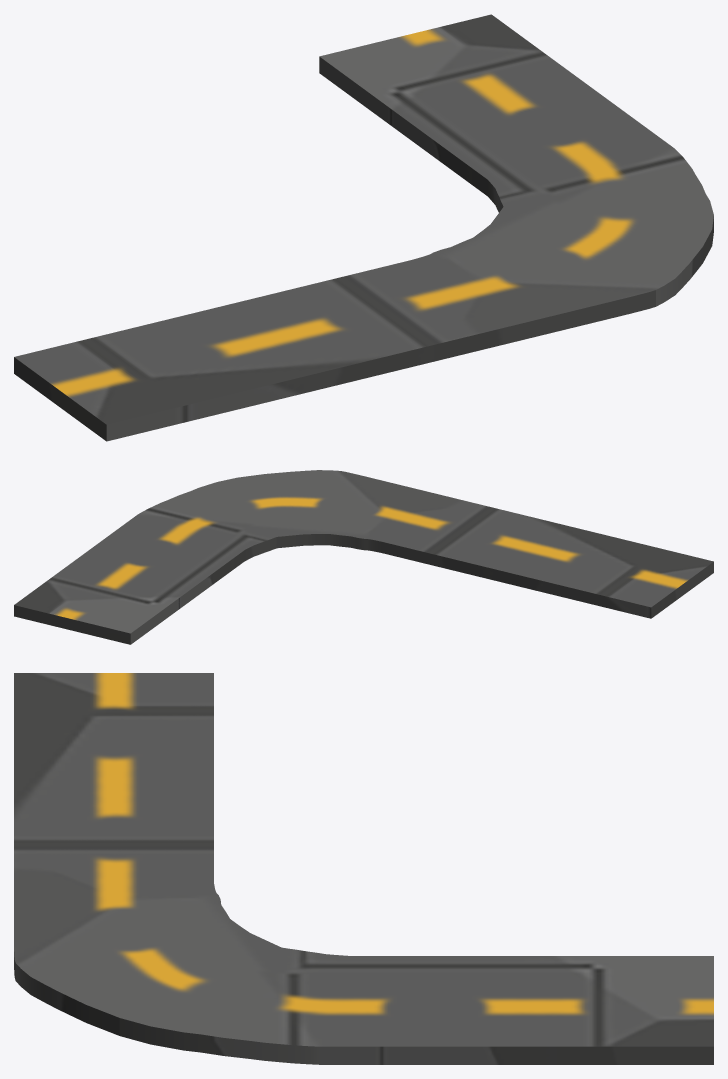
Rendered from carretera2.fbx.
3 renders of one model, top to bottom at view 1: azimuth 30°, elevation 25°; view 2: azimuth 150°, elevation 25°; view 3: azimuth 270°, elevation 25°, orthographic. The views are drawn at different scales.
Parts seen in each view (by area): view 1: pCube2; view 2: pCube2; view 3: pCube2.
Part boxes in pixels (left/top/right/bottom): pCube2: left=14, top=14, right=713, bottom=441; pCube2: left=14, top=470, right=713, bottom=644; pCube2: left=14, top=673, right=713, bottom=1064.
Bounding box in the file's own units: 8.84 × 0.2 × 7.
